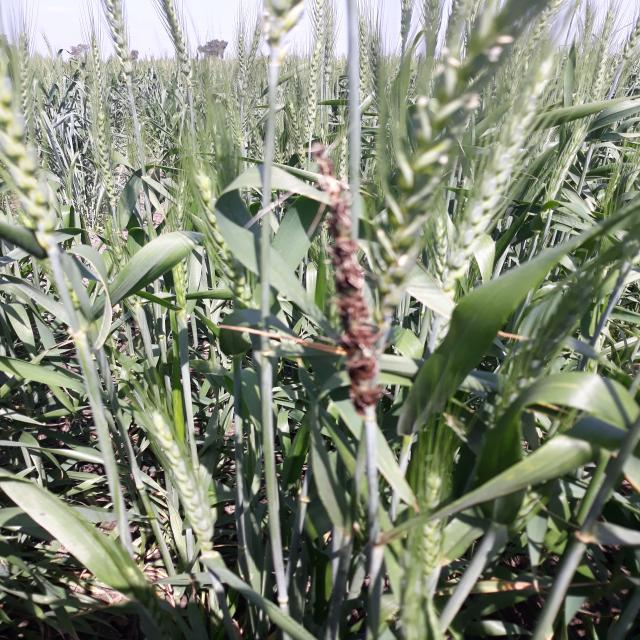loose_charred: (290, 163, 414, 516)
